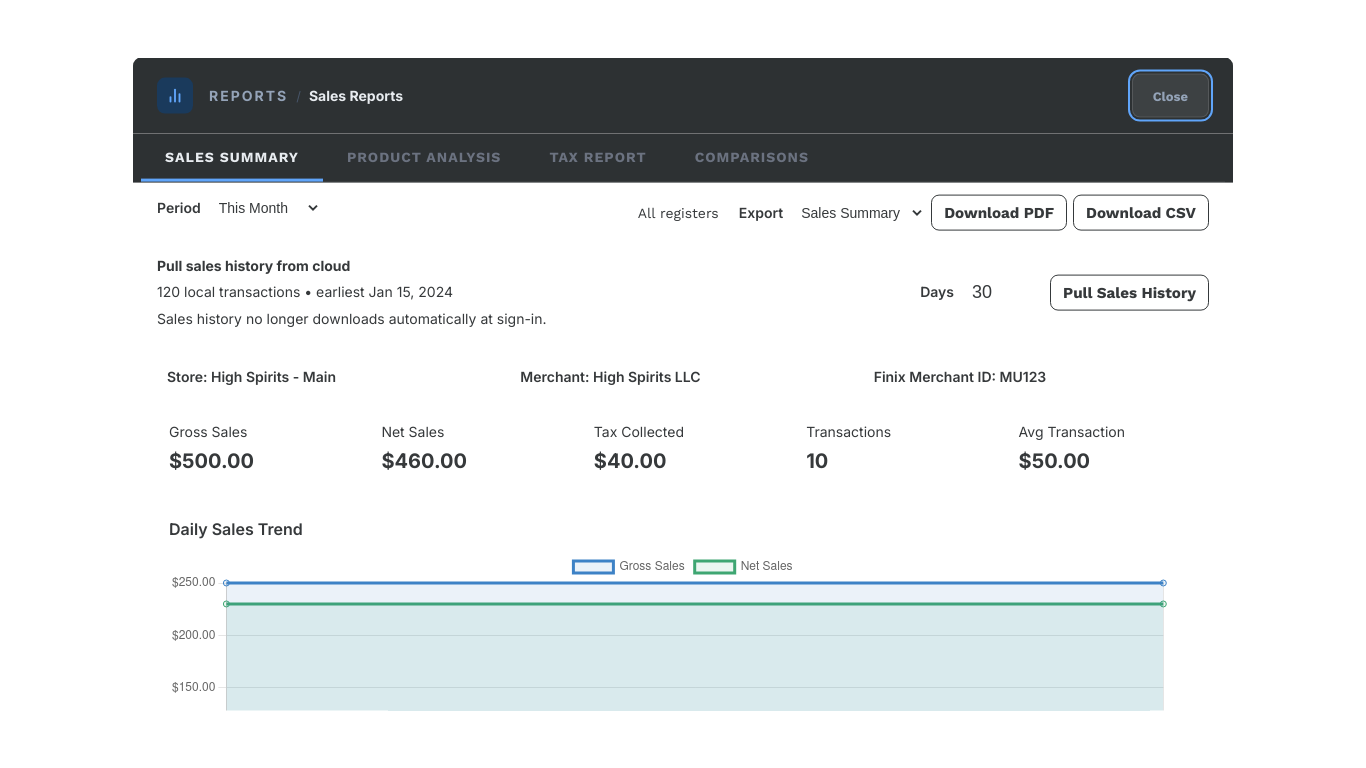
Scenario: ReportsModal › starts a manual sales history pull from the reports panel
The image size is (1366, 768).
Expected: the element with test id "reports-history-panel" is shown, [133,243,1233,342]
Replace the text in the field named "Days of sales history to pull" with "45". click: (1002, 292)
box: [962,274,1042,311]
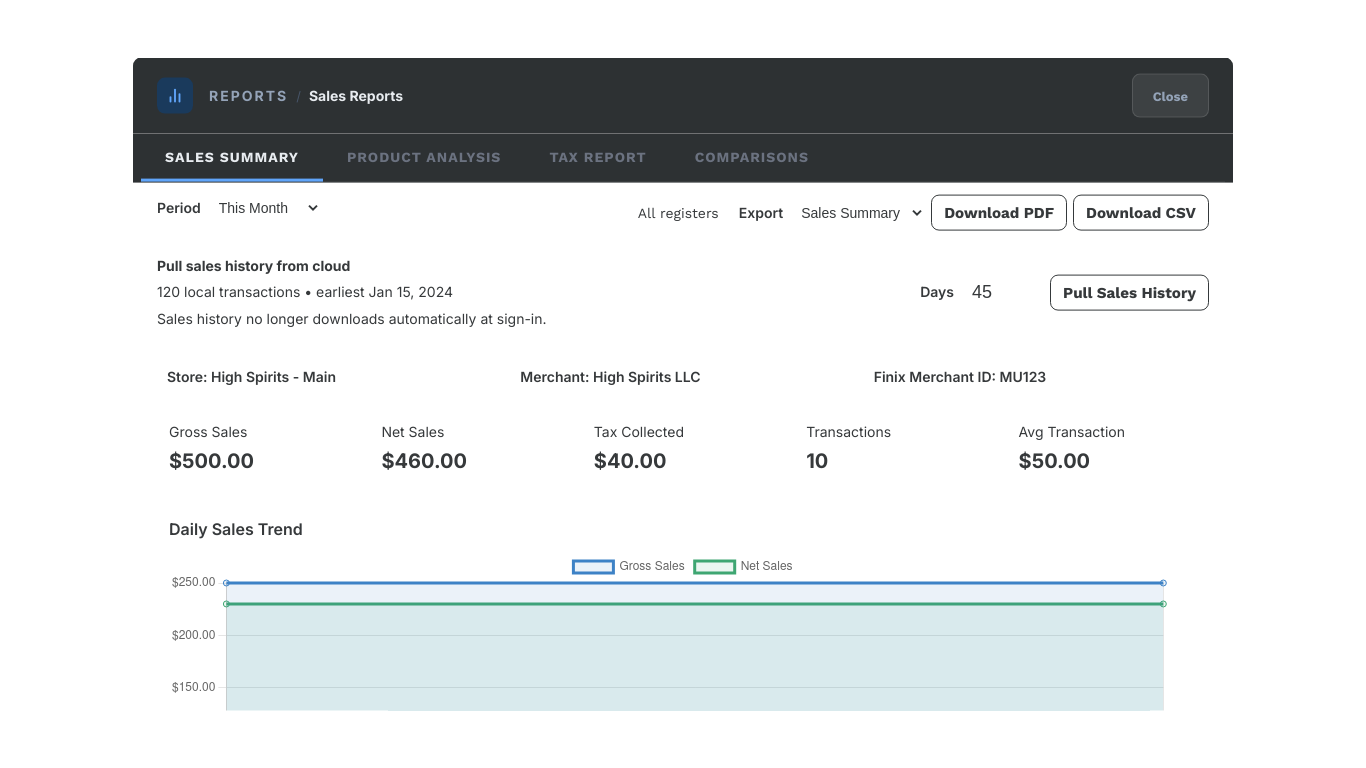
Click the button "Pull Sales History". click: (1130, 292)
box: [1050,274,1209,310]
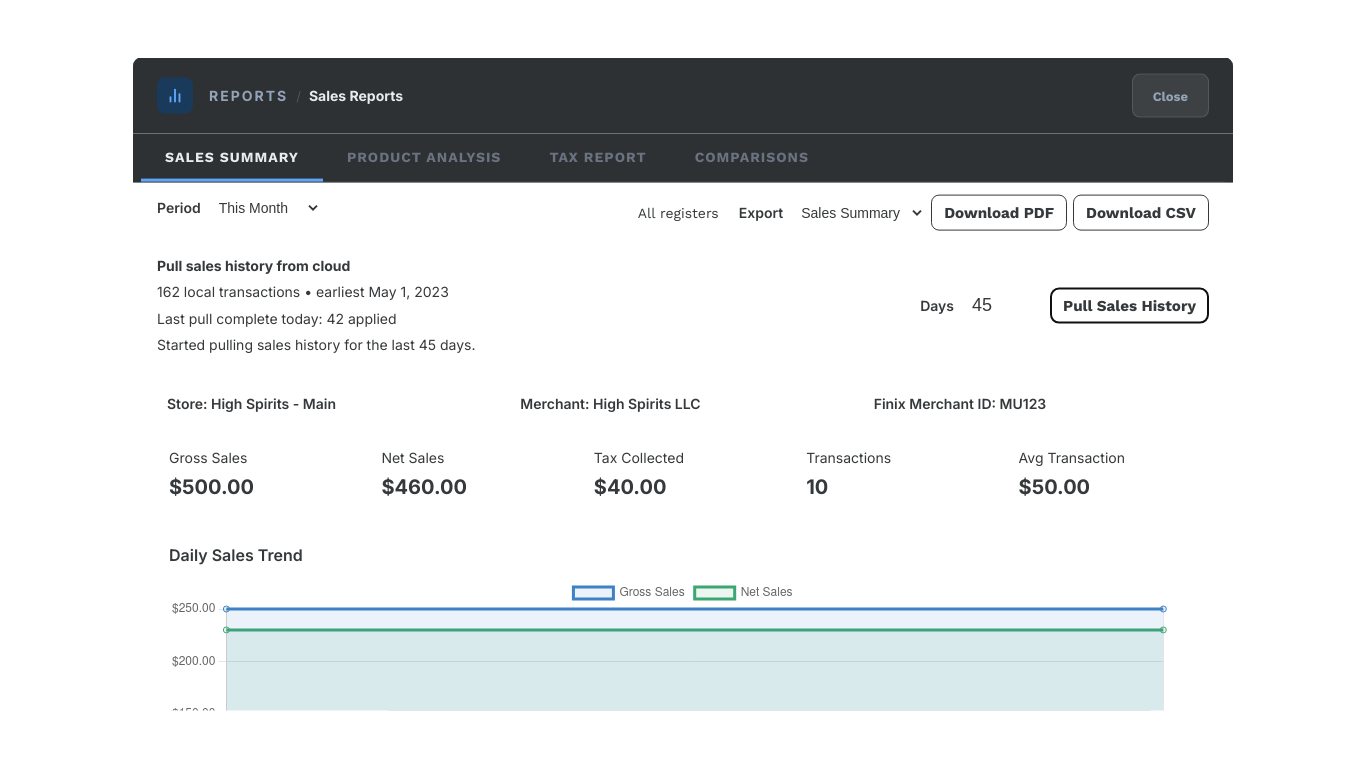
Result: the text "Last pull complete today: 42 applied" is shown at [157,309,396,326]
Result: the text "162 local transactions • earliest May 1, 2023" is shown at [157,281,476,303]
